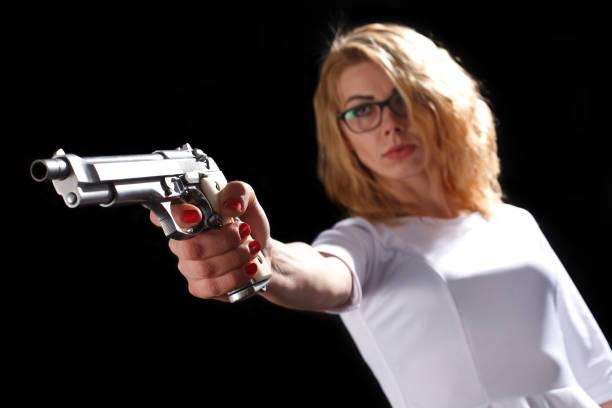weapon: (28, 141, 275, 308)
